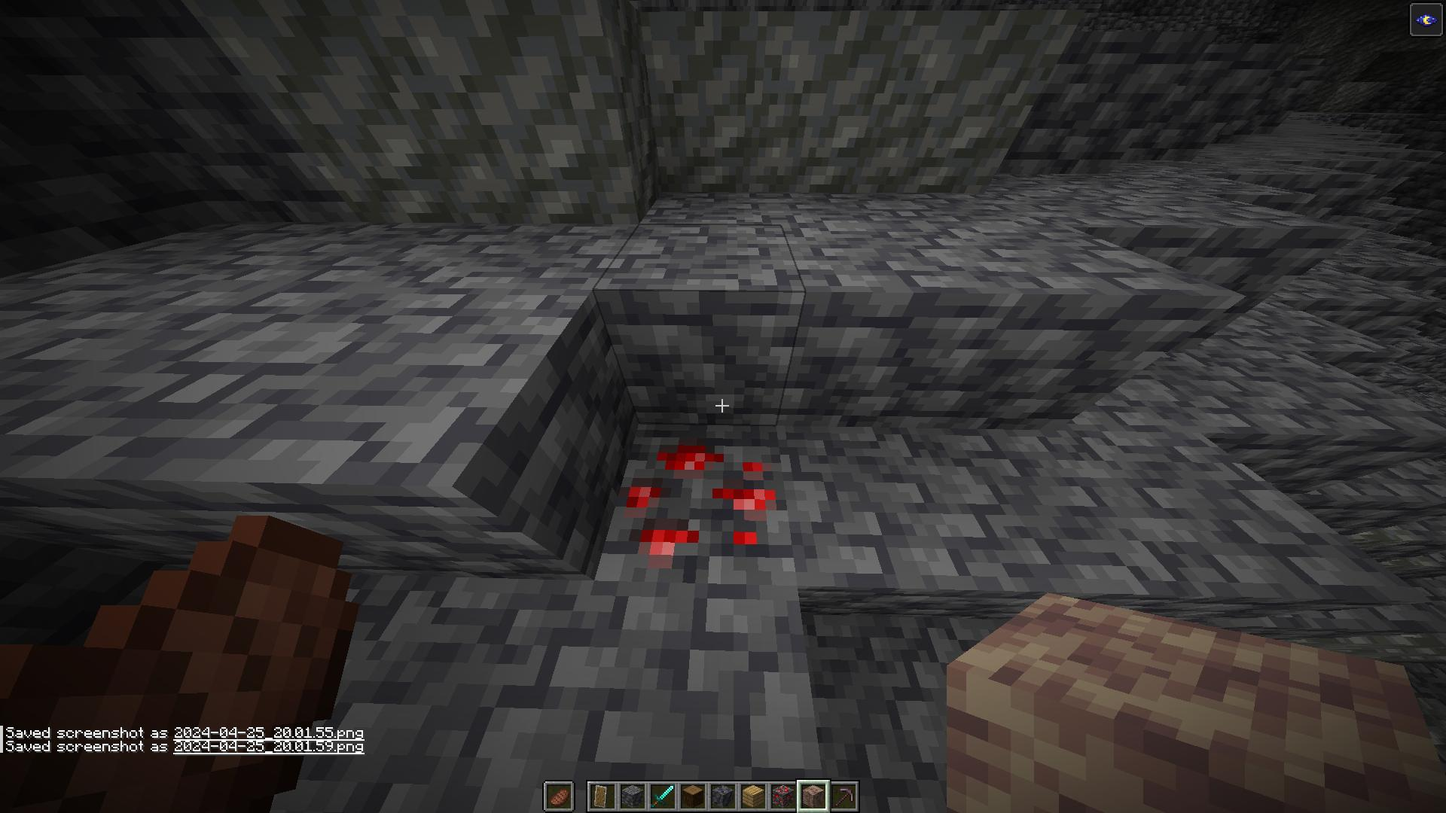redstone ore: (615, 439, 786, 571)
